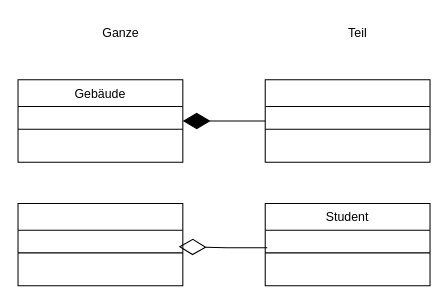
Some shapes in this 448 by 304 pixel diagram are drawn without their labels. The shapes that lost their labels are listed below. From the top down, each one's box as (x1, y1, x2, y2) in pixels, then its label:
(264, 79, 430, 162): Raum
(17, 202, 183, 286): Uni
